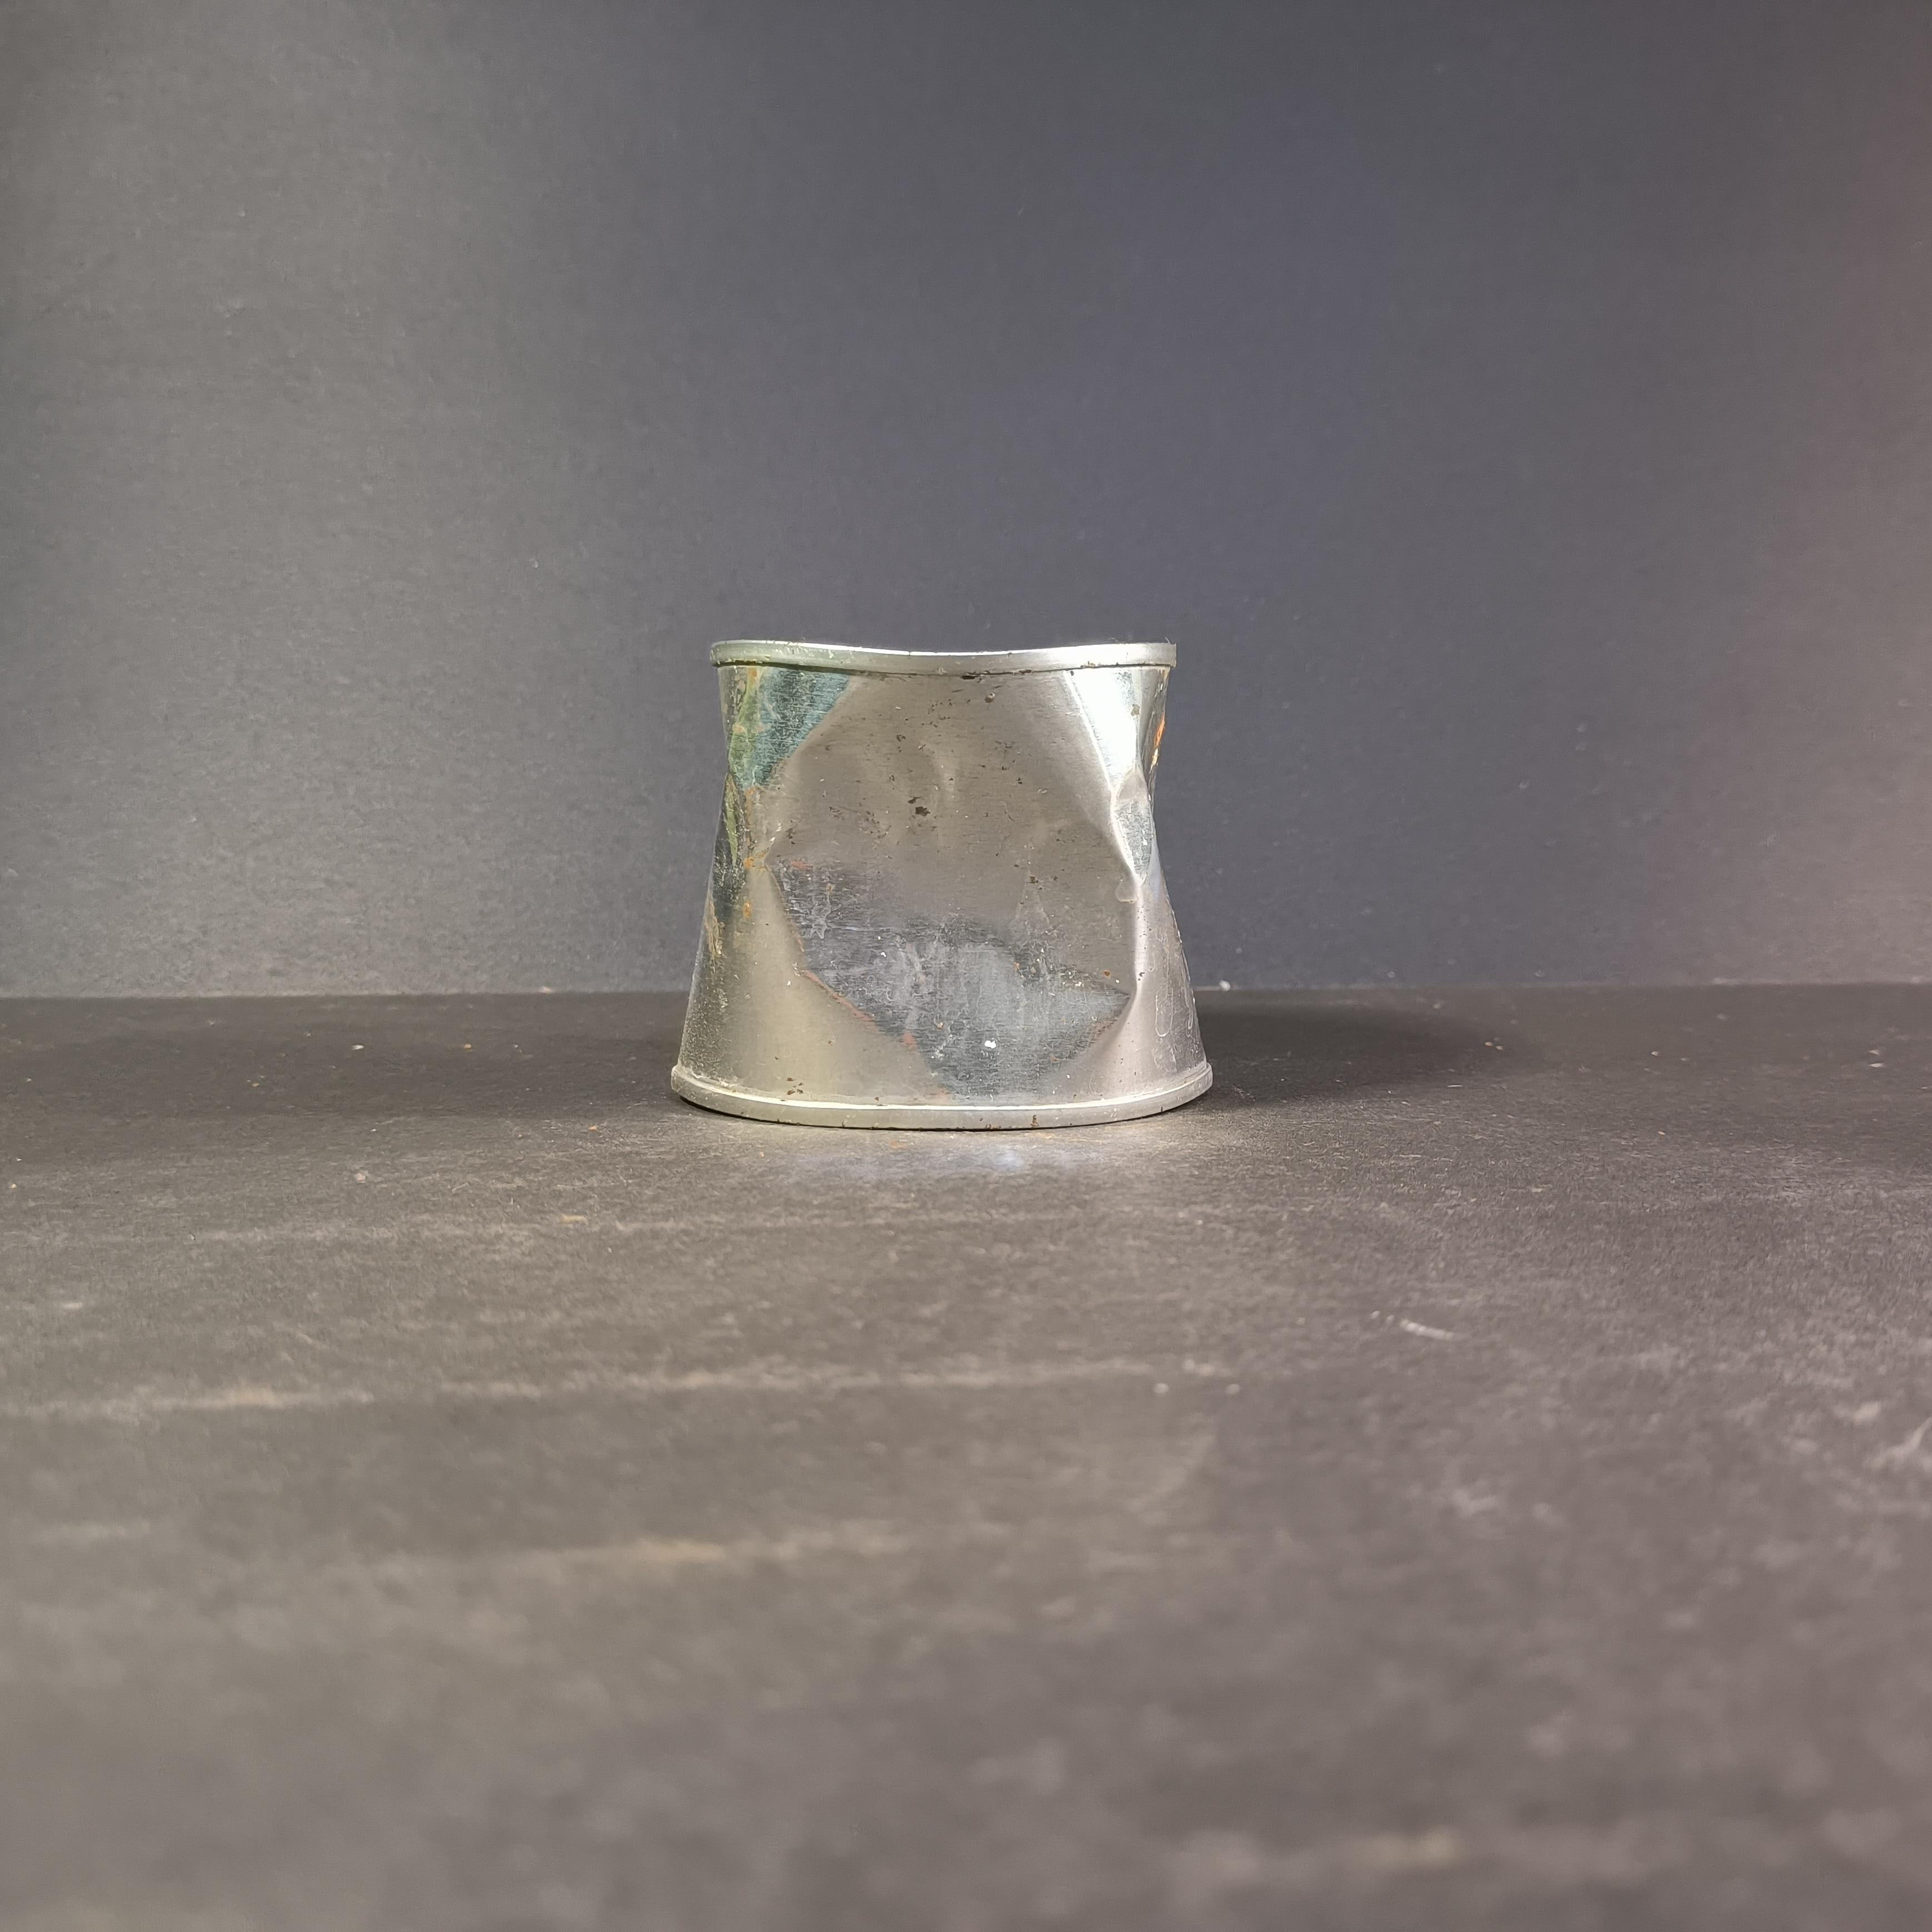Dented: (646, 603, 1230, 1148)
